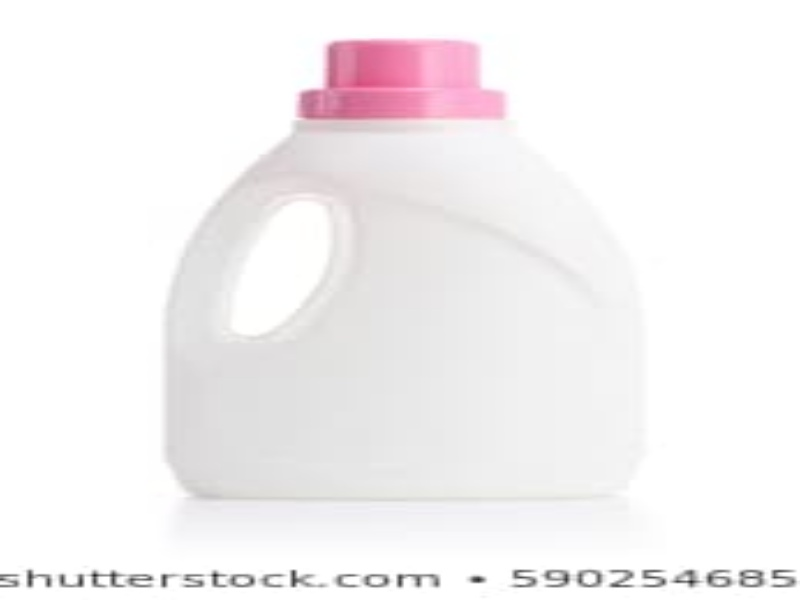detergent-bottle: (155, 35, 653, 497)
